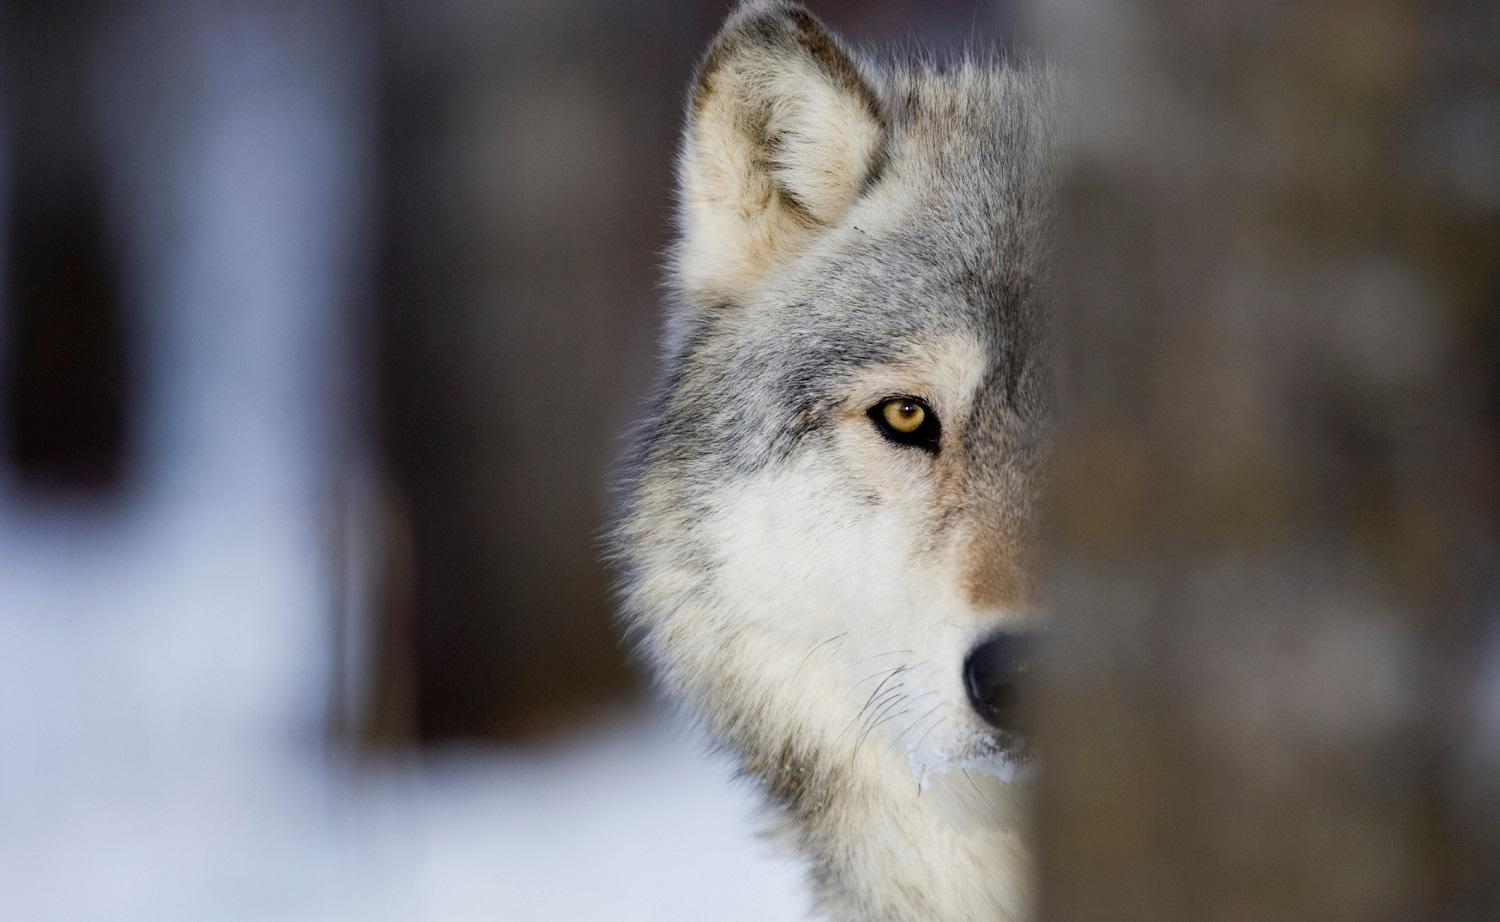fox: (621, 7, 1037, 922)
